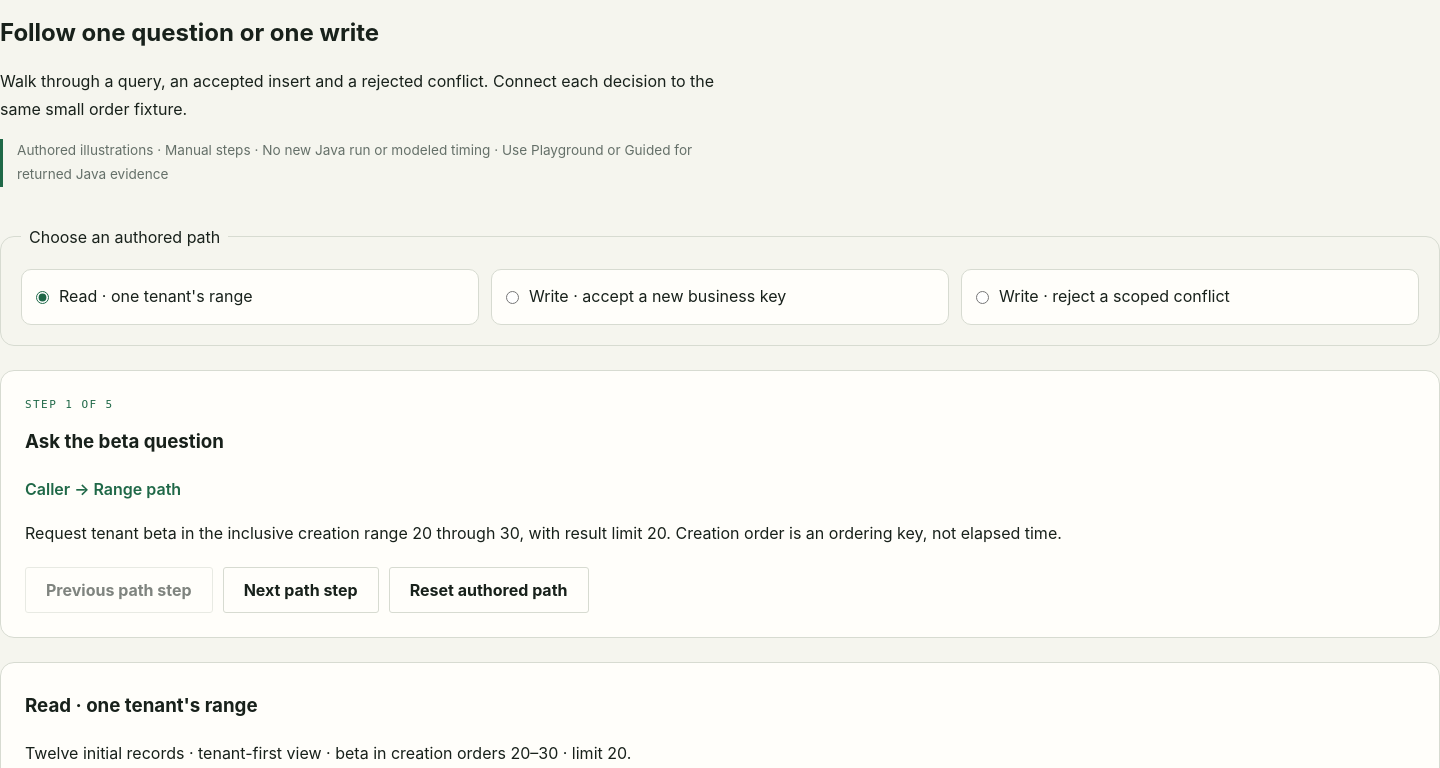
Test case: resets the cursor when switching accepted and rejected paths and explains their different mutations
Click the radio button labelled "Write · accept a new business key". click: (512, 297)
box: [506,291,519,304]
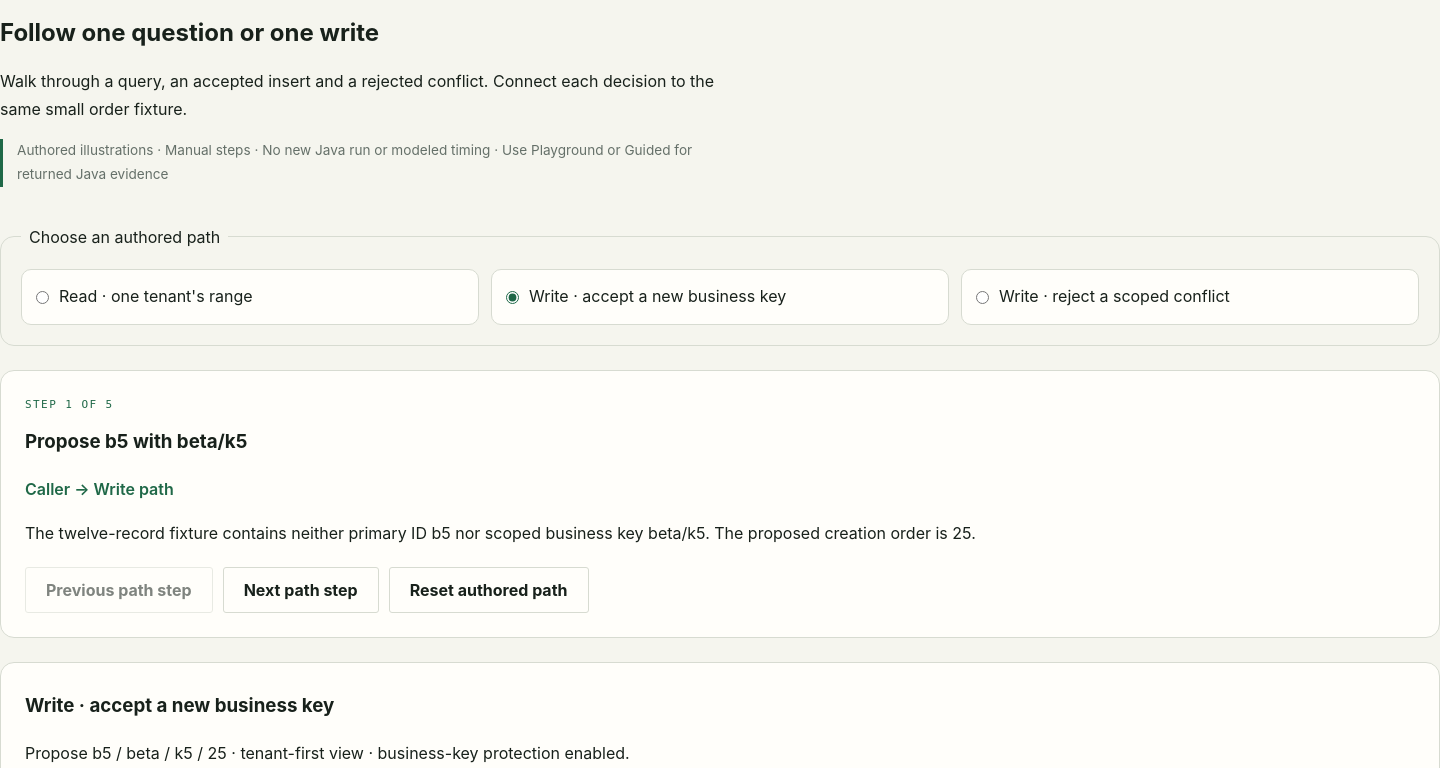
Click the button "Next path step". click: (301, 590)
box: [223,567,379,613]
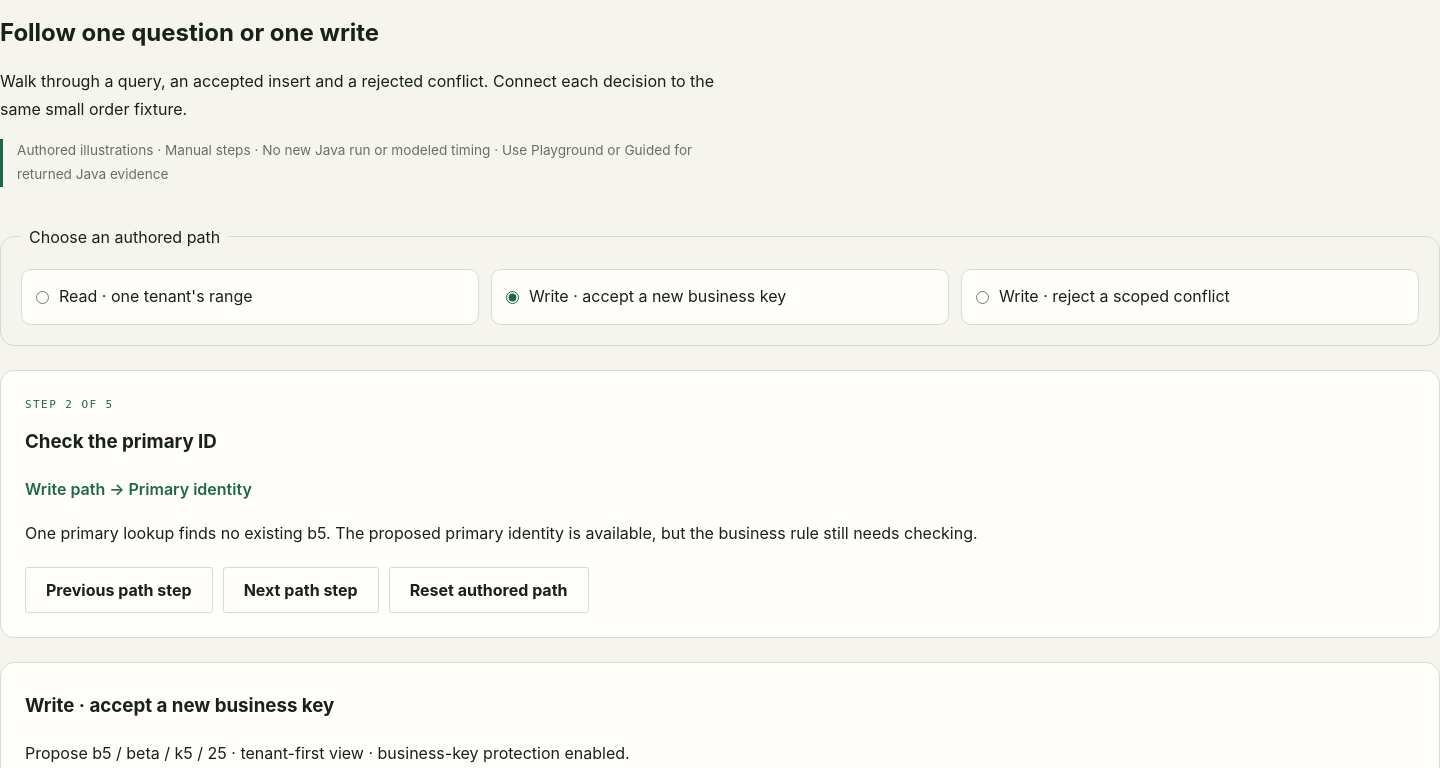
Click the radio button labelled "Write · reject a scoped conflict". click: (982, 297)
box: [976,291,989,304]
(page scrolled)
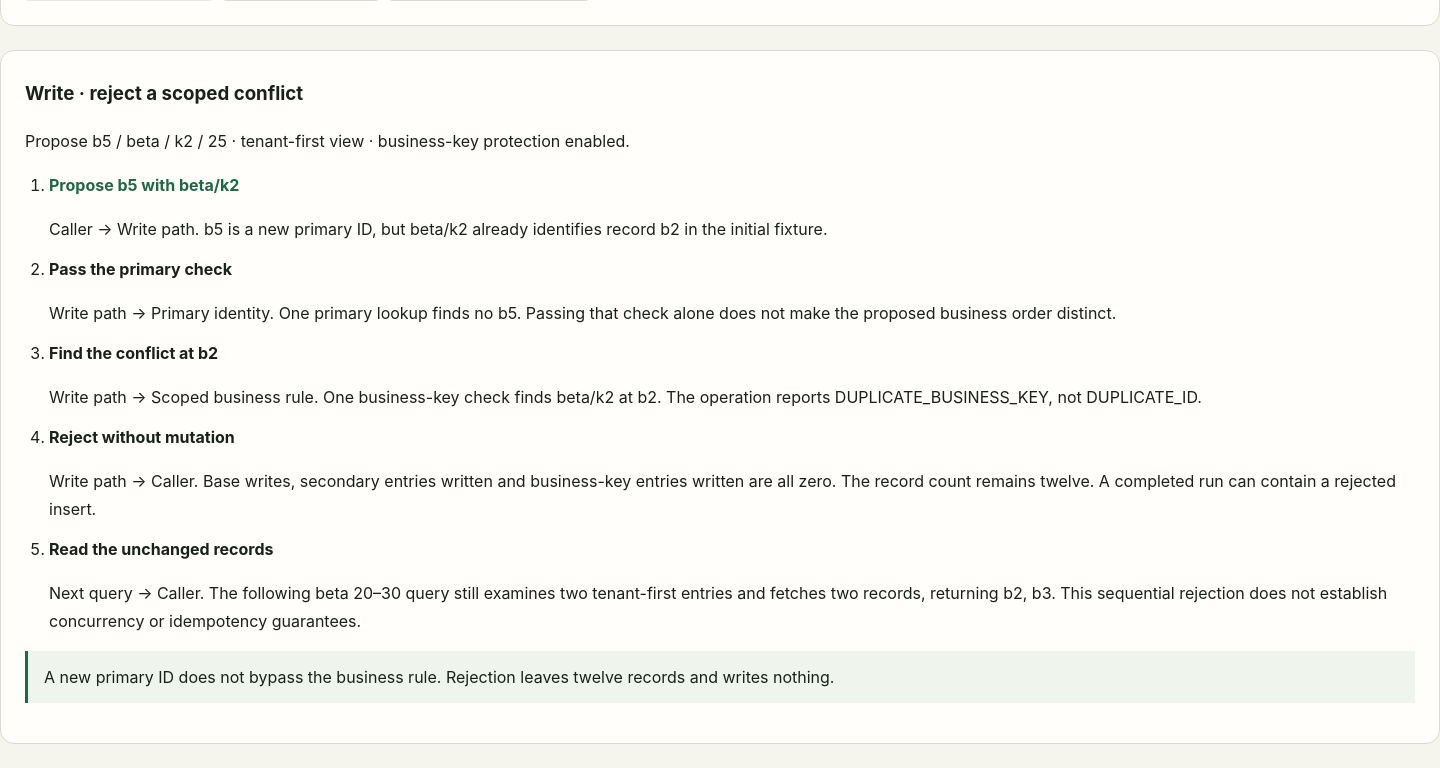
Result: the element named "Full authored operation path" shows "DUPLICATE_BUSINESS_KEY, not DUPLICATE_ID" at [323,387,1202,407]
